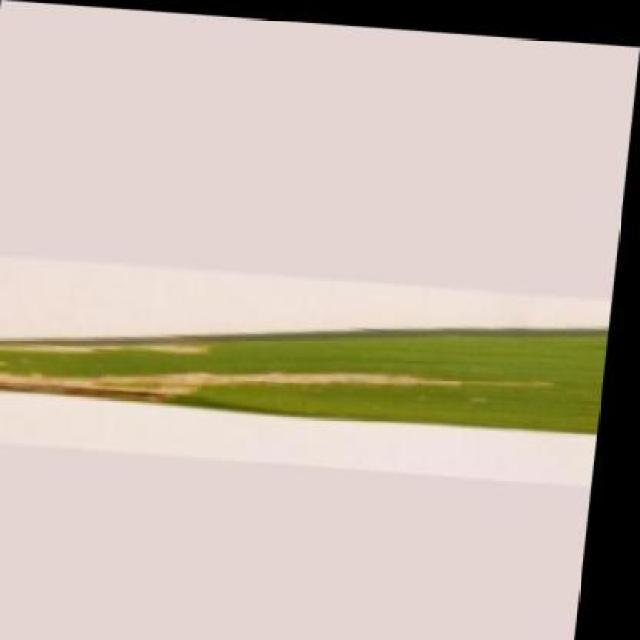Brown_Spot: (0, 280, 615, 434)
